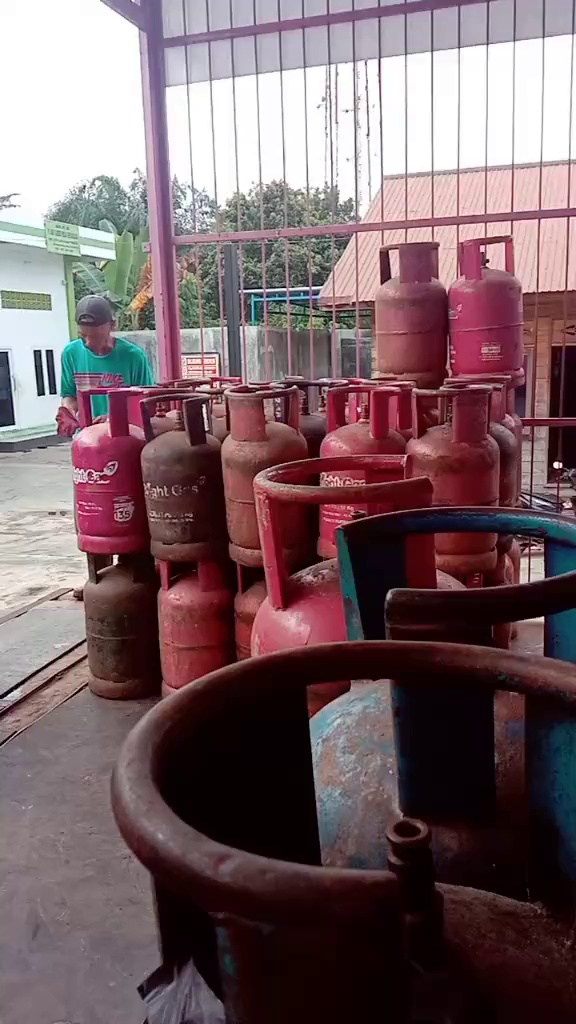blue_gas: (309, 507, 574, 914)
bright_gas: (252, 458, 468, 691), (321, 383, 414, 563), (412, 388, 502, 571), (228, 388, 312, 569), (71, 383, 153, 548), (143, 392, 223, 558), (78, 551, 162, 705), (368, 242, 453, 388), (449, 238, 526, 379), (156, 561, 227, 702)
